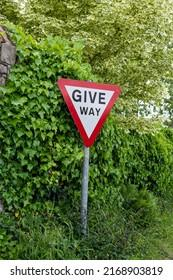Give Way: (57, 74, 127, 145)
